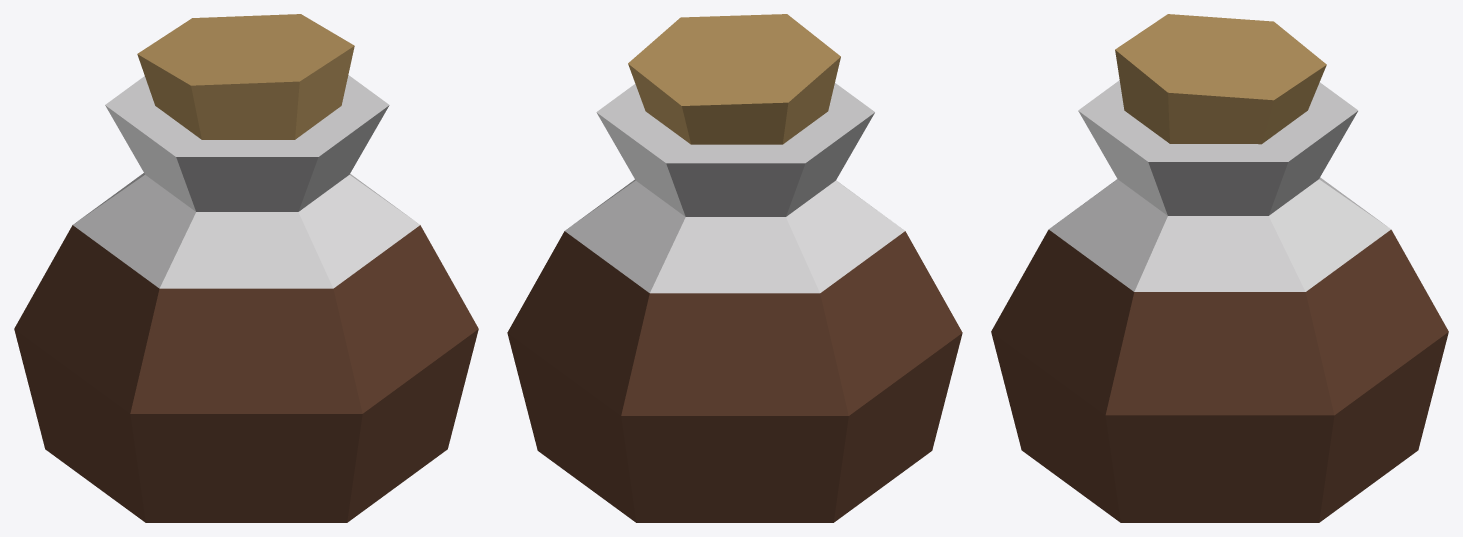
File: Red_Potion.gltf
3 views of the same model, side by side, from view 1: azimuth 30°, elevation 25°; view 2: azimuth 150°, elevation 25°; view 3: azimuth 270°, elevation 25° (orthographic). The views are drawn at different scales.
Visible parts, largest first — view 1: Red_Potion2; view 2: Red_Potion2; view 3: Red_Potion2.
Part boxes in pixels (x1,y1,x2,y2): Red_Potion2: (14,14,478,522); Red_Potion2: (507,14,962,522); Red_Potion2: (991,14,1448,522).
Size of the model in its own units: 0.0633 by 0.0747 by 0.0731.
Materials: 1 (1 with a texture image).
